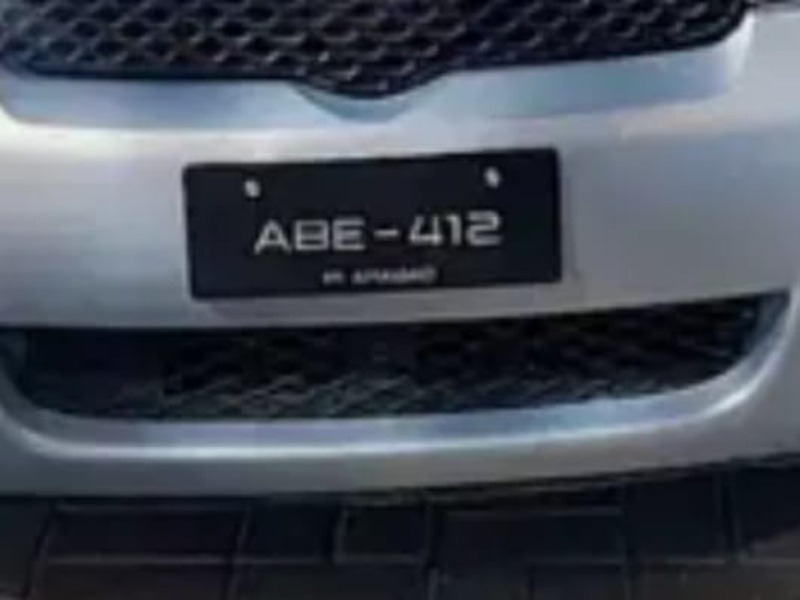License Plate: (172, 146, 566, 300)
